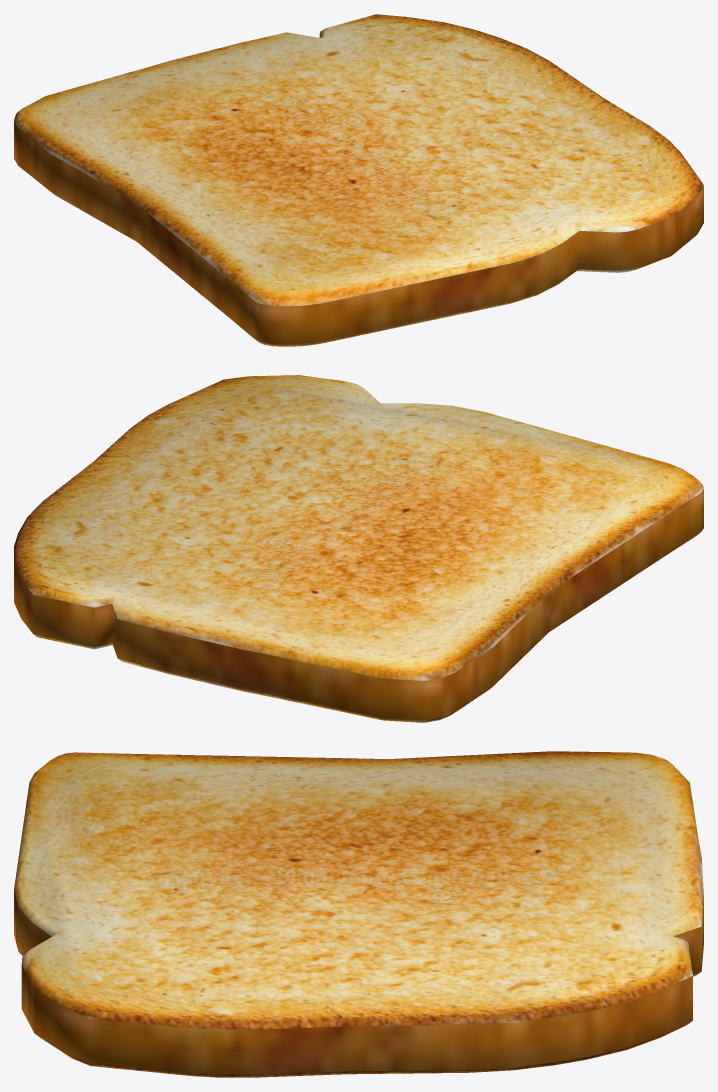
File: bread_for_jordan.glb
3 views of the same model, one above another, from view 1: azimuth 30°, elevation 25°; view 2: azimuth 150°, elevation 25°; view 3: azimuth 270°, elevation 25° (orthographic). The views are drawn at different scales.
Visible parts, largest first — view 1: toast_0; view 2: toast_0; view 3: toast_0.
Part boxes in pixels (x1,y1,x2,y2): toast_0: [14, 14, 703, 346]; toast_0: [14, 375, 703, 722]; toast_0: [14, 751, 703, 1077].
Bounding box in the file's own units: 0.7473 × 0.0706 × 0.7902.
Materials: 1 (1 with a texture image).
